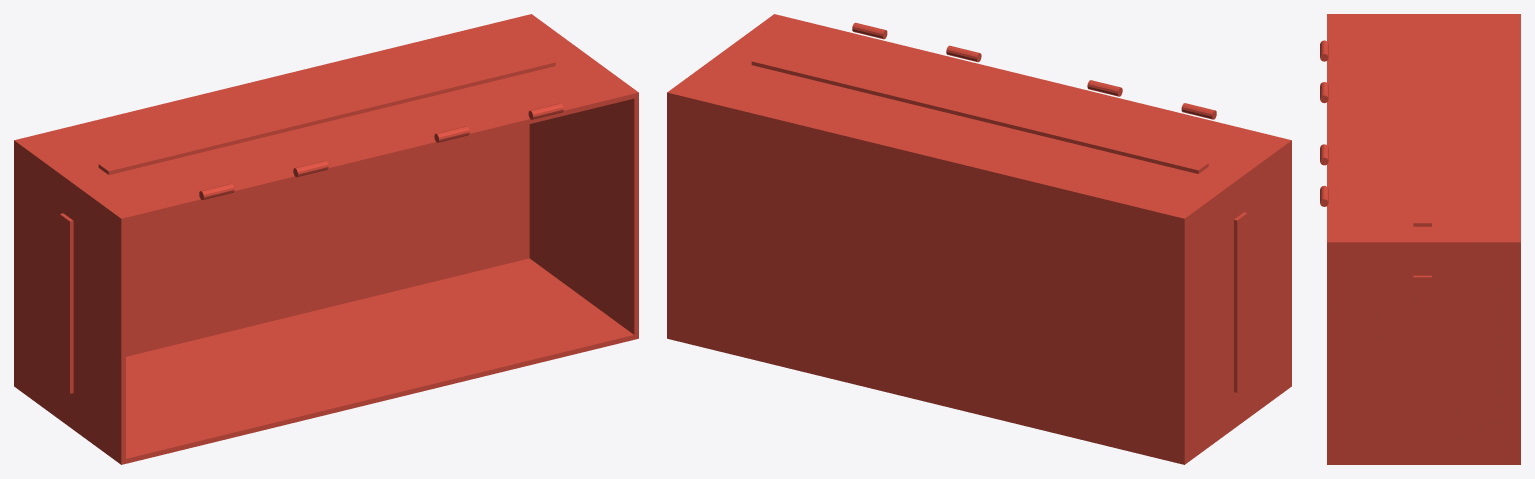
File: body.glb
3 renders of one model, left to right at view 1: azimuth 30°, elevation 25°; view 2: azimuth 150°, elevation 25°; view 3: azimuth 270°, elevation 25°, orthographic. The views are drawn at different scales.
Visible parts, largest first — view 1: body.001; view 2: body.001; view 3: body.001.
Part boxes in pixels (x1,y1,x2,y2): body.001: (14,14,638,464); body.001: (667,14,1291,464); body.001: (1320,14,1520,464).
Bounding box in the file's own units: 0.446 × 0.2115 × 0.1635.
